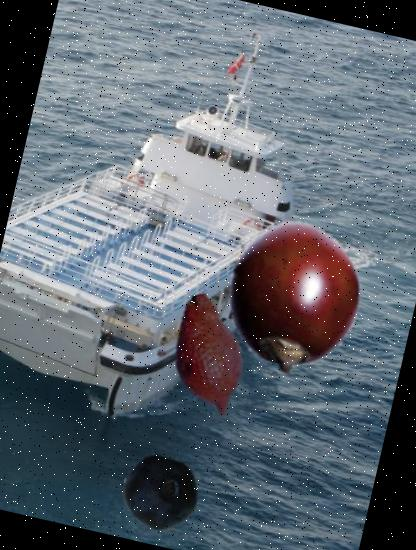Blueberry: (114, 448, 206, 540)
Salak: (132, 280, 284, 432)
Tamarillo: (204, 206, 384, 386)
